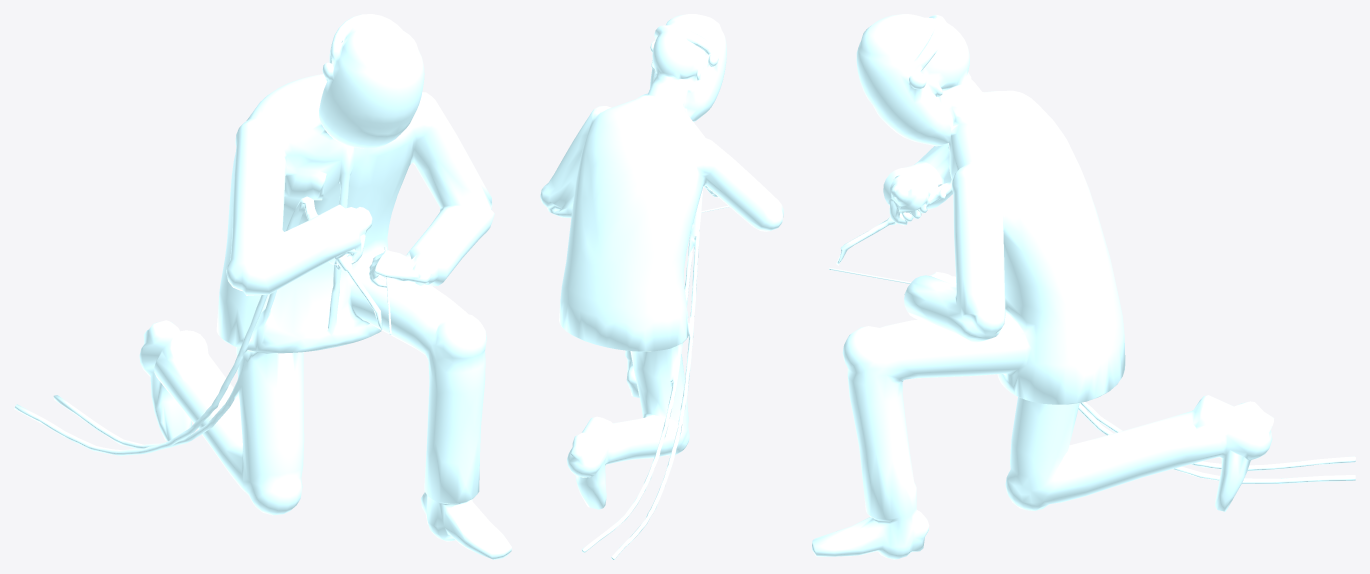
Rendered from echo_welder.glb.
3 views of the same model, side by side, from view 1: azimuth 30°, elevation 25°; view 2: azimuth 150°, elevation 25°; view 3: azimuth 270°, elevation 25° (orthographic). The views are drawn at different scales.
Parts seen in each view (by area): view 1: pose_weld; view 2: pose_weld; view 3: pose_weld.
Part boxes in pixels (x1,y1,x2,y2): pose_weld: (14, 14, 511, 559); pose_weld: (540, 14, 783, 559); pose_weld: (812, 14, 1355, 559).
Size of the model in its own units: 0.7379 by 1.28 by 1.24.
